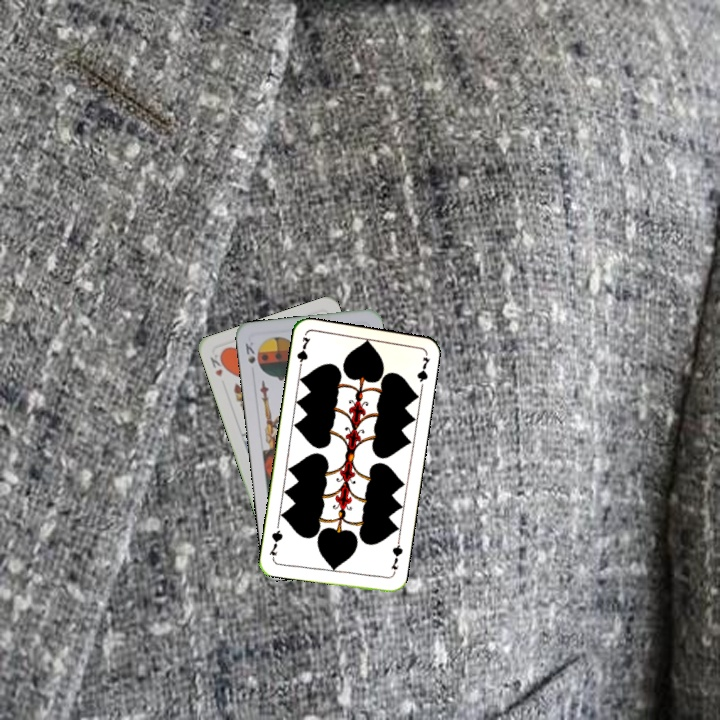G7: (293, 333, 313, 373), (387, 537, 405, 577)
HK: (206, 350, 229, 379)
SK: (241, 338, 258, 366)
